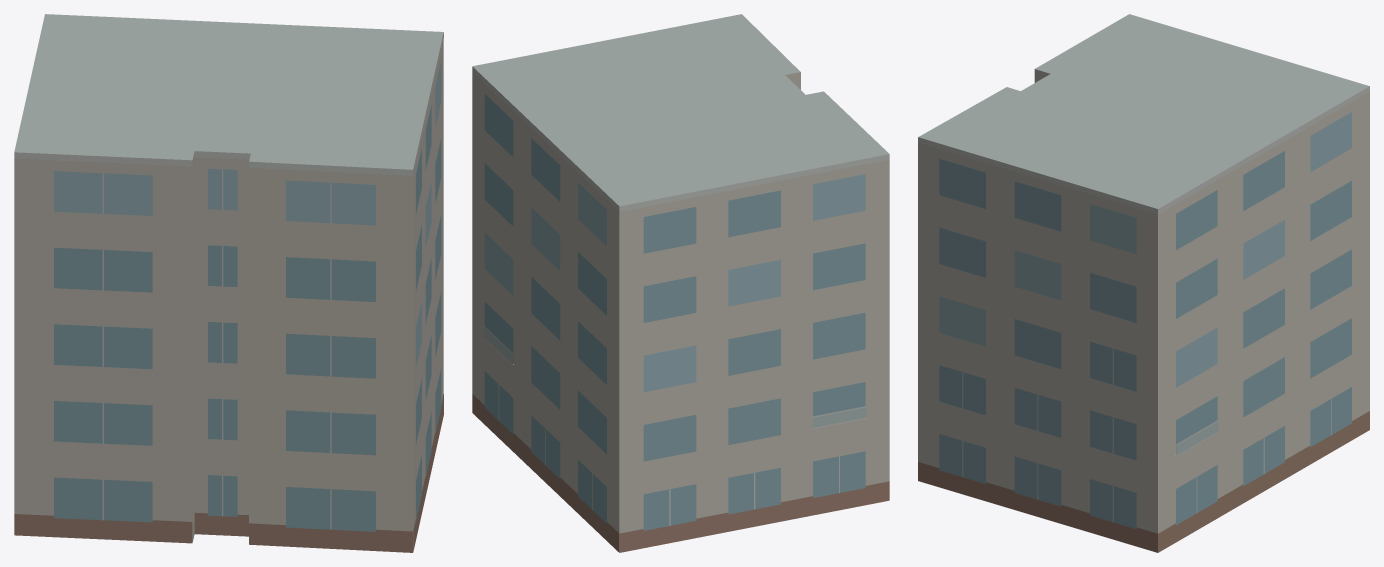
Rendered from survey-upis-32985453.glb.
3 views of the same model, side by side, from view 1: azimuth 30°, elevation 25°; view 2: azimuth 150°, elevation 25°; view 3: azimuth 270°, elevation 25° (orthographic). The views are drawn at different scales.
Parts seen in each view (by area): view 1: survey-upis-32985453.tmp; view 2: survey-upis-32985453.tmp; view 3: survey-upis-32985453.tmp.
Part boxes in pixels (x1,y1,x2,y2): survey-upis-32985453.tmp: (14,14,443,552); survey-upis-32985453.tmp: (472,14,889,552); survey-upis-32985453.tmp: (918,14,1369,552).
Size of the model in its own units: 18.57 by 15.25 by 18.17.
